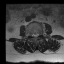CCS_normal: (34, 31, 36, 40)
LFS_normal: (38, 30, 40, 37)
LLS_normal: (36, 31, 38, 39)
RFS_normal: (30, 31, 32, 37)
RLS_normal: (32, 31, 34, 39)
